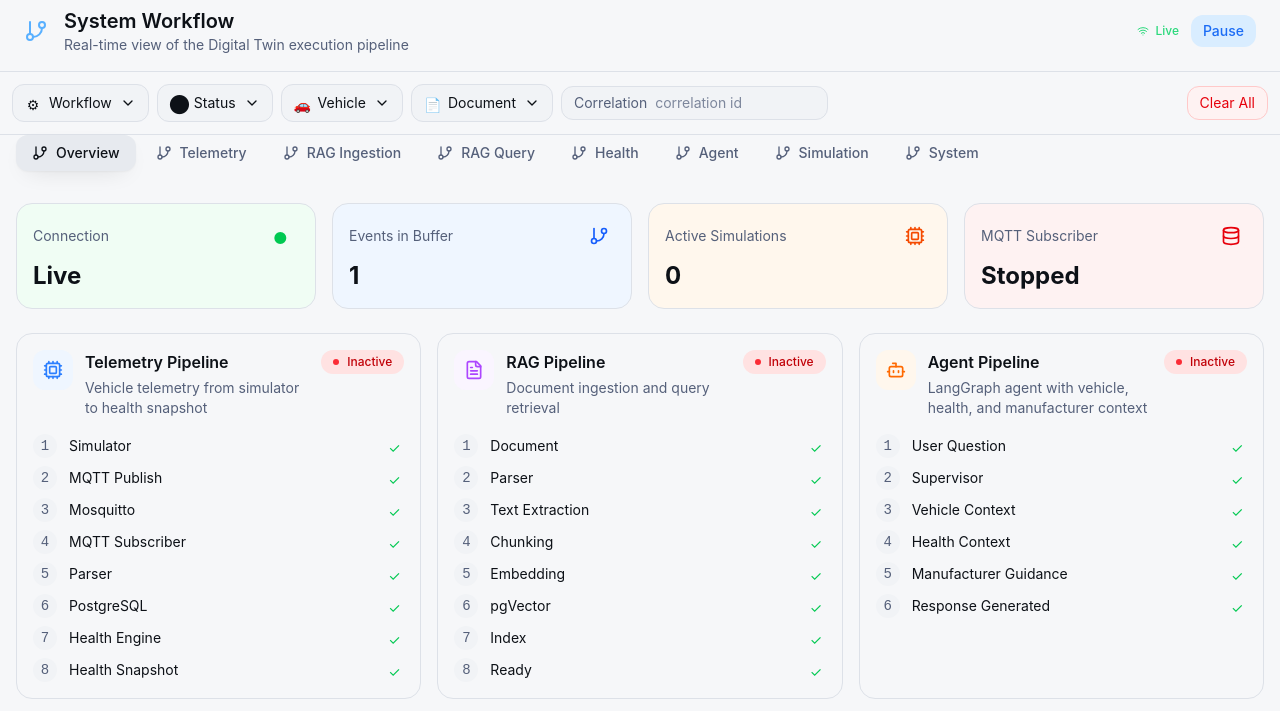
Test case: WorkflowView monitor controls › shows a tab-aware empty state when nothing matches
Click the tab "Health".
click(605, 153)  # box 555,135 -> 655,171
(page scrolled)
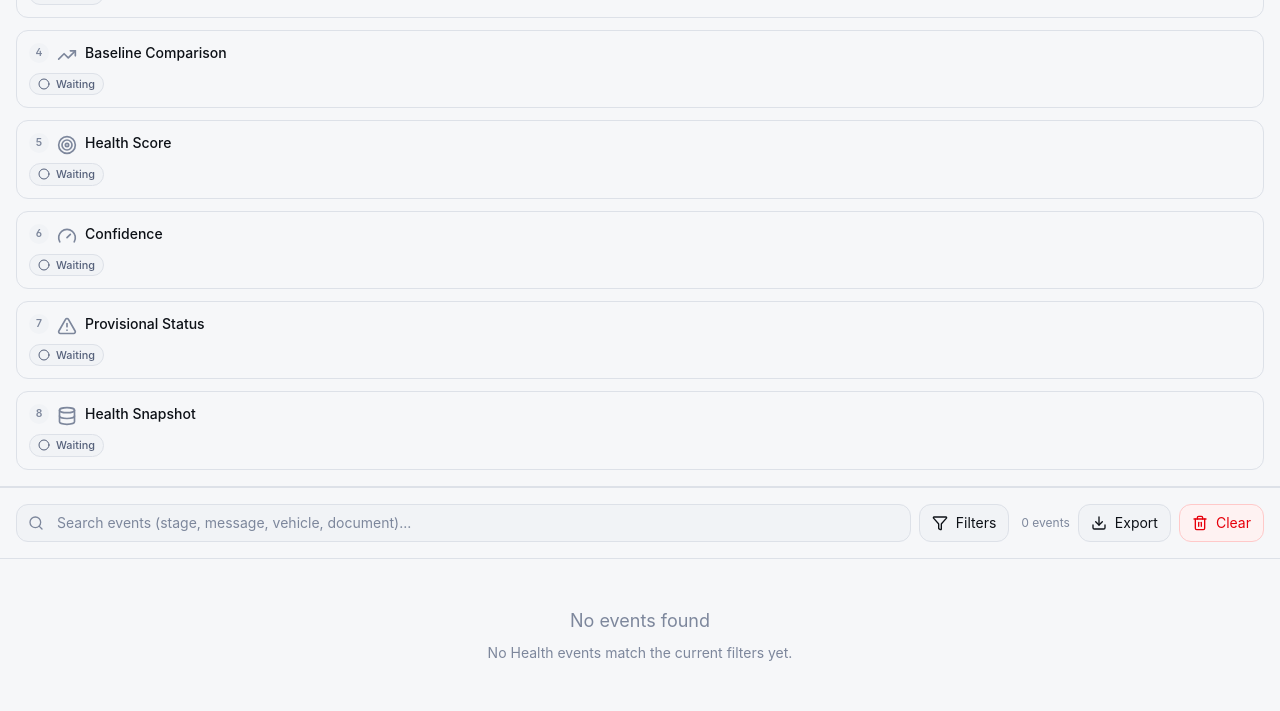
expect the text "No Health events match the current filters yet." is shown: met, box 488,642 -> 792,662
